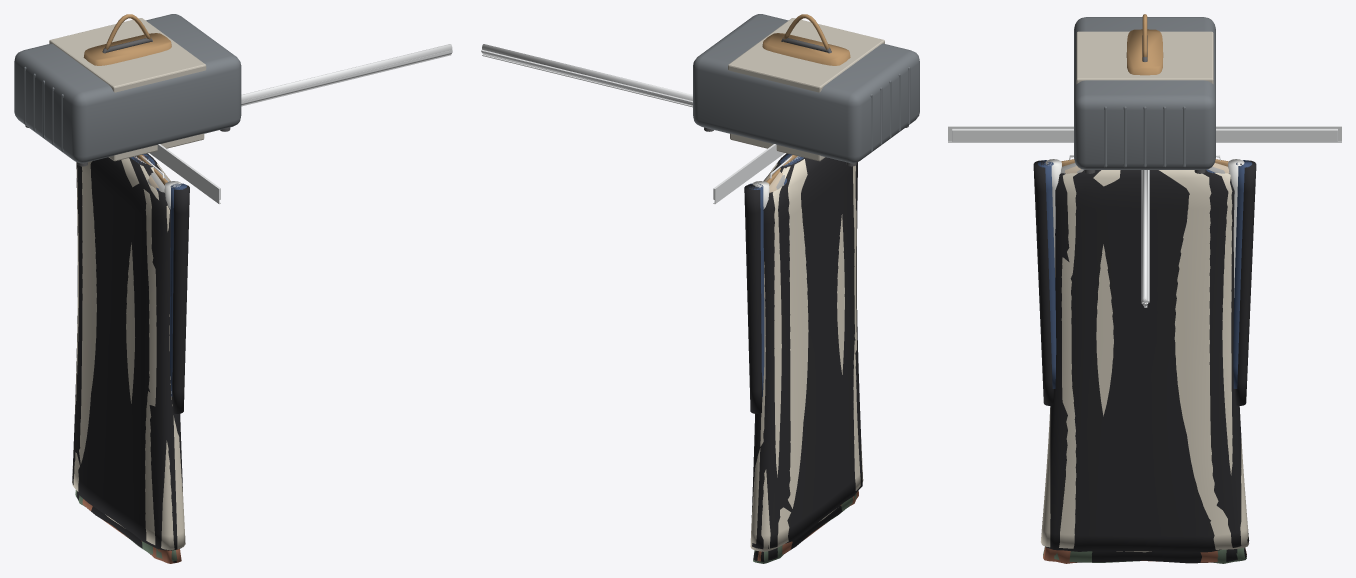
File: kit.gltf
The picture shows the model from 3 angles, left to right: view 1: azimuth 30°, elevation 25°; view 2: azimuth 150°, elevation 25°; view 3: azimuth 270°, elevation 25°; orthographic projection. The views are drawn at different scales.
Visible parts, largest first — view 1: abrigo_a_cuerpo, maleta_c, abrigo_b_cuerpo, caja_tapa, abrigo_a_manga.001, barra_oval, bolso_a_c, riel_ext, chaqueta_a_manga.001, led_alu, caja_c; view 2: abrigo_a_cuerpo, maleta_c, abrigo_b_cuerpo, caja_tapa, abrigo_a_manga, barra_oval, bolso_a_c, gola_perfil, riel_ext, chaqueta_a_manga, caja_c, vestido_c_cuerpo; view 3: abrigo_a_cuerpo, abrigo_b_cuerpo, maleta_c, caja_tapa, riel_int, abrigo_a_manga.001, abrigo_a_manga, chaqueta_a_manga, bolso_a_c, chaqueta_a_manga.001, vestido_c_cuerpo, riel_ext (+5 smaller).
Part boxes in pixels (x1=…): abrigo_a_cuerpo: x1=72, y1=153, x2=182, y2=550; maleta_c: x1=14, y1=14, x2=241, y2=163; abrigo_b_cuerpo: x1=72, y1=158, x2=185, y2=550; caja_tapa: x1=49, y1=18, x2=206, y2=92; abrigo_a_manga.001: x1=172, y1=185, x2=189, y2=413; barra_oval: x1=241, y1=44, x2=452, y2=105; bolso_a_c: x1=83, y1=33, x2=171, y2=65; riel_ext: x1=149, y1=144, x2=220, y2=204; chaqueta_a_manga.001: x1=170, y1=183, x2=186, y2=396; led_alu: x1=241, y1=50, x2=452, y2=103; caja_c: x1=109, y1=133, x2=204, y2=161; abrigo_a_cuerpo: x1=751, y1=153, x2=862, y2=549; maleta_c: x1=693, y1=14, x2=919, y2=163; abrigo_b_cuerpo: x1=750, y1=159, x2=863, y2=551; caja_tapa: x1=728, y1=18, x2=884, y2=92; abrigo_a_manga: x1=744, y1=184, x2=762, y2=413; barra_oval: x1=482, y1=44, x2=692, y2=105; bolso_a_c: x1=762, y1=33, x2=850, y2=65; gola_perfil: x1=481, y1=49, x2=692, y2=107; riel_ext: x1=713, y1=144, x2=784, y2=203; chaqueta_a_manga: x1=748, y1=183, x2=764, y2=396; caja_c: x1=730, y1=133, x2=825, y2=161; vestido_c_cuerpo: x1=753, y1=505, x2=842, y2=561; abrigo_a_cuerpo: x1=1042, y1=170, x2=1249, y2=552; abrigo_b_cuerpo: x1=1040, y1=170, x2=1249, y2=552; maleta_c: x1=1074, y1=17, x2=1215, y2=169; caja_tapa: x1=1076, y1=31, x2=1213, y2=84; riel_int: x1=952, y1=128, x2=1337, y2=141; abrigo_a_manga.001: x1=1033, y1=160, x2=1053, y2=405; abrigo_a_manga: x1=1235, y1=160, x2=1256, y2=405; chaqueta_a_manga: x1=1233, y1=160, x2=1252, y2=388; bolso_a_c: x1=1126, y1=29, x2=1163, y2=75; chaqueta_a_manga.001: x1=1037, y1=160, x2=1056, y2=388; vestido_c_cuerpo: x1=1043, y1=547, x2=1246, y2=563; riel_ext: x1=948, y1=126, x2=1341, y2=142.
Size of the model in its own units: 1.26 by 1.52 by 1.
